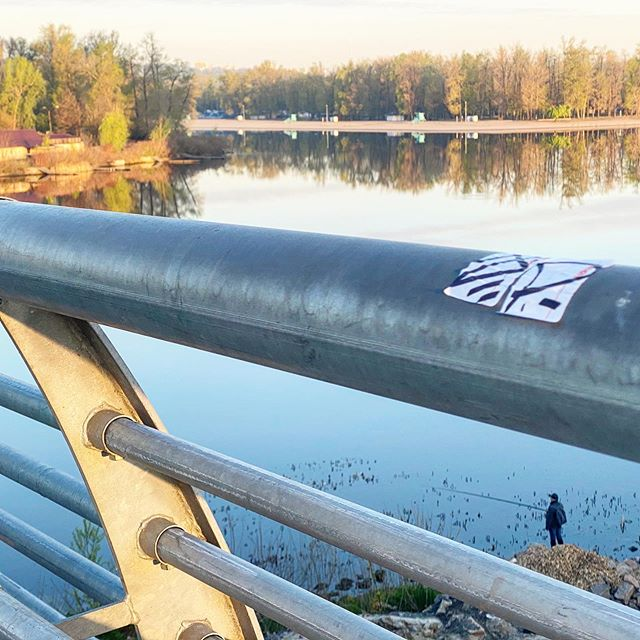river: (30, 138, 640, 617)
sky: (1, 1, 617, 51)
vegetation: (1, 38, 640, 156)
